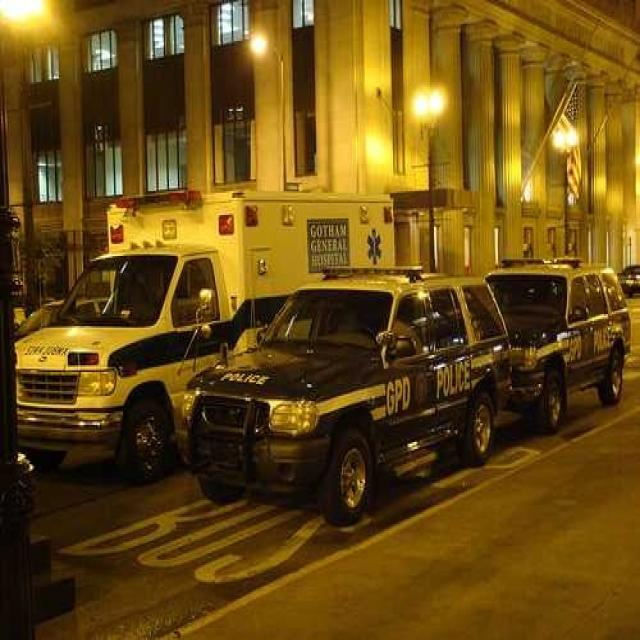ambulance: (6, 193, 414, 459)
firetruck: (193, 280, 507, 505), (485, 261, 629, 416)
